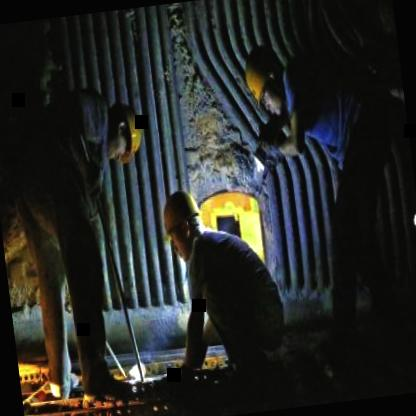helmet: (234, 38, 294, 122), (92, 99, 146, 164), (157, 186, 204, 260)
